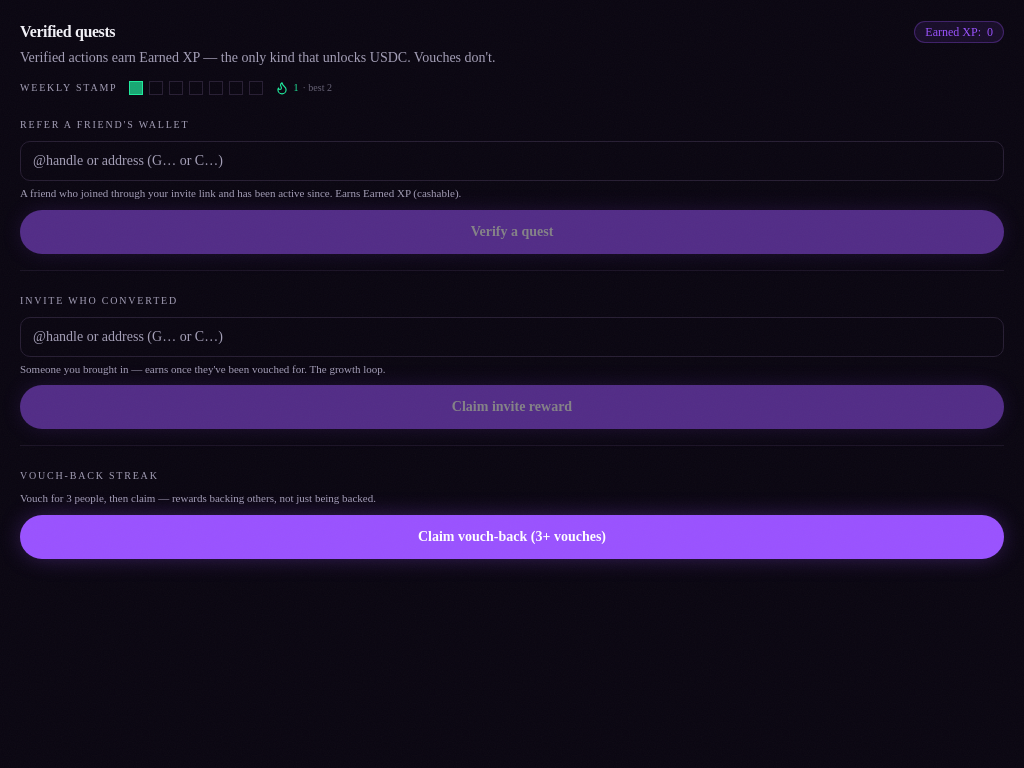
Test: Quests › still reports a failed quest
Click the button "Claim vouch-back (3+ vouches)": coordinates (512, 536) [20, 514, 1004, 558]
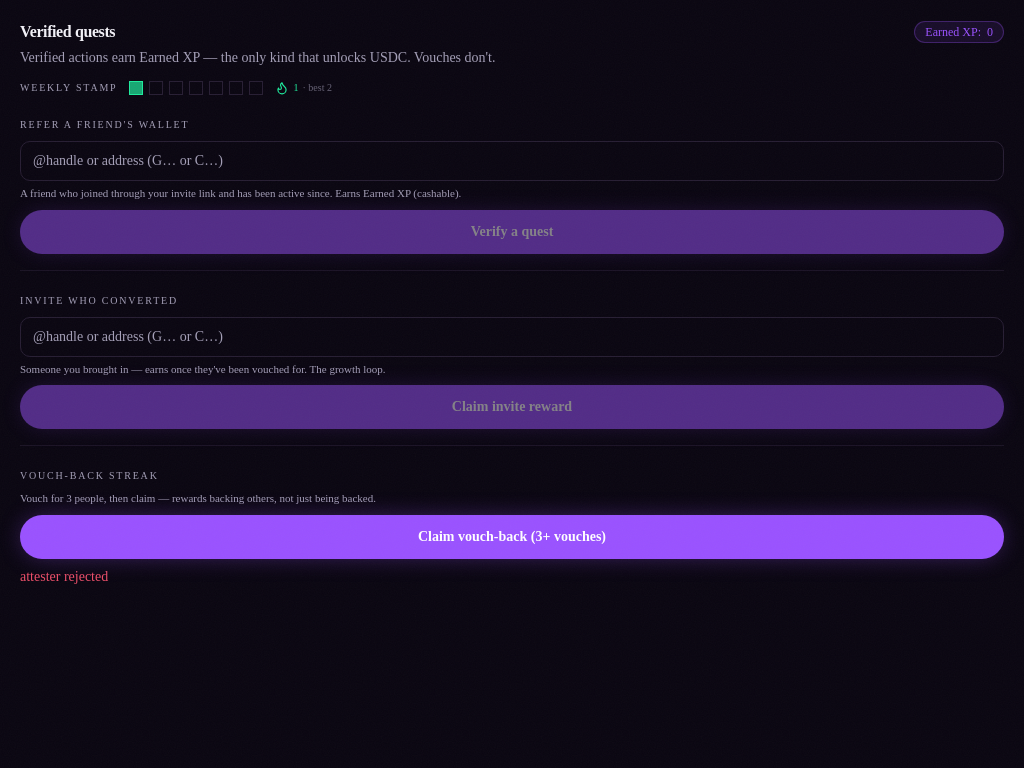
Expected: the text "attester rejected" is shown, [20, 568, 108, 584]
